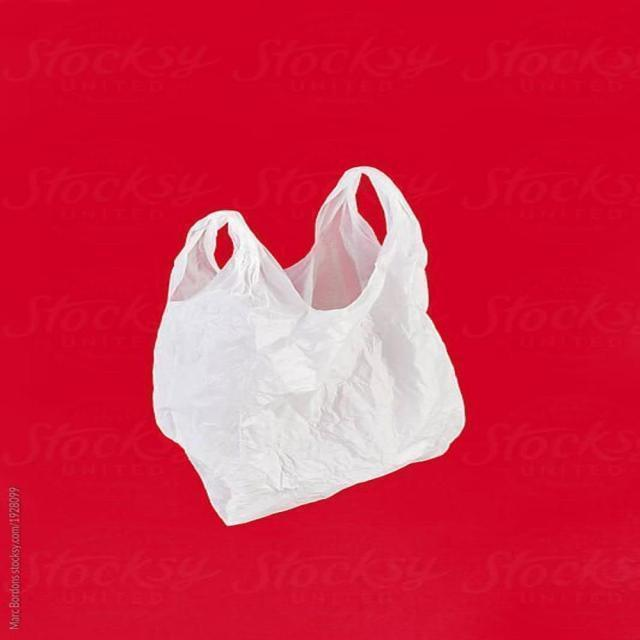KantongPlastik: (149, 163, 467, 527)
